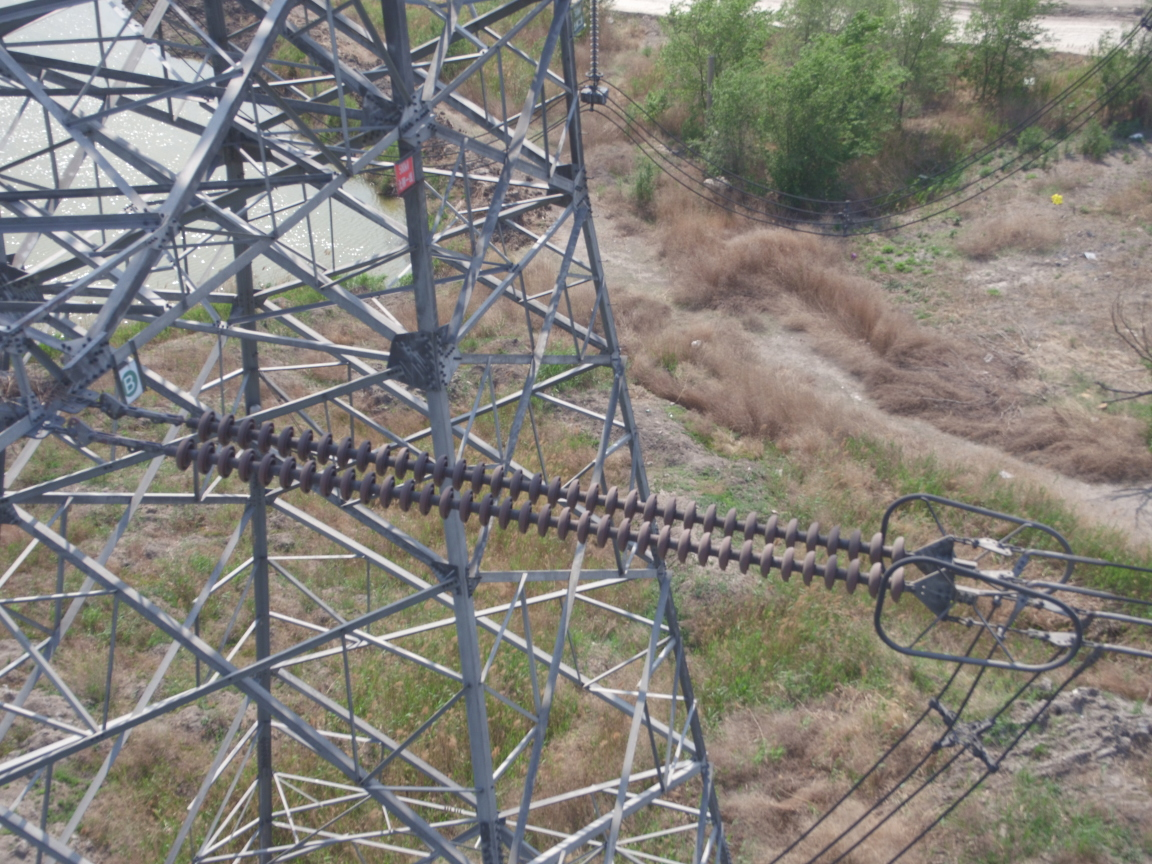insulator: (151, 409, 935, 606)
